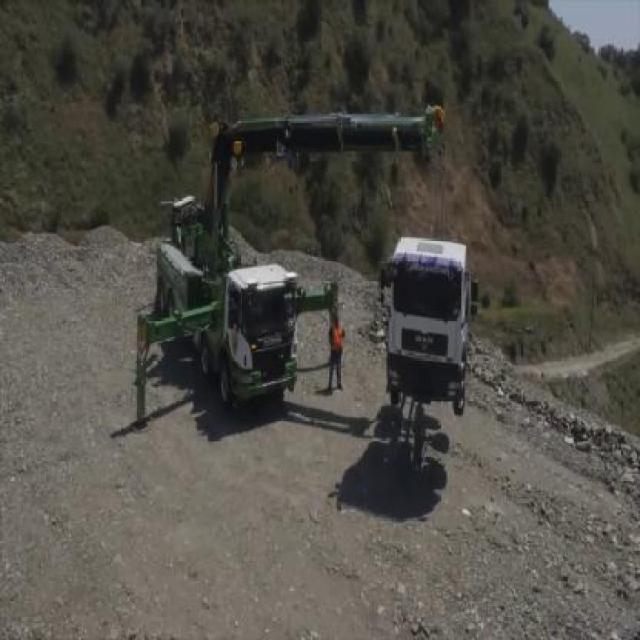Mobile Crane: (134, 112, 446, 428)
